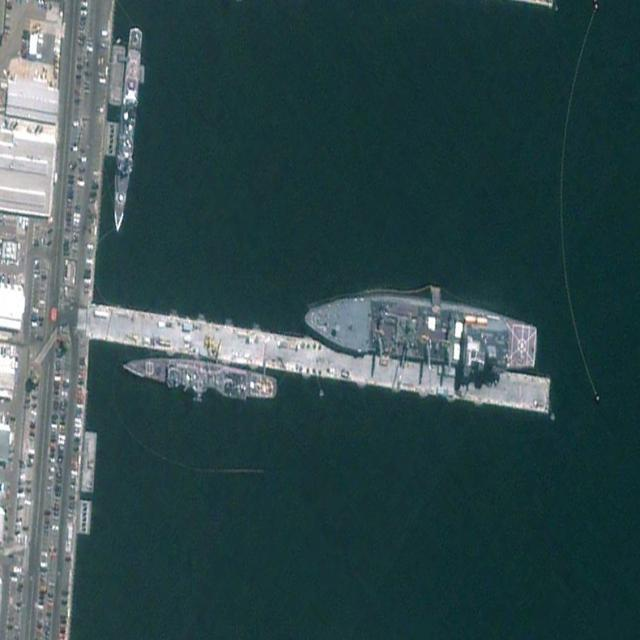Commander: (302, 283, 539, 385)
Frigate: (122, 348, 279, 406)
Other Ship: (109, 24, 144, 234)
